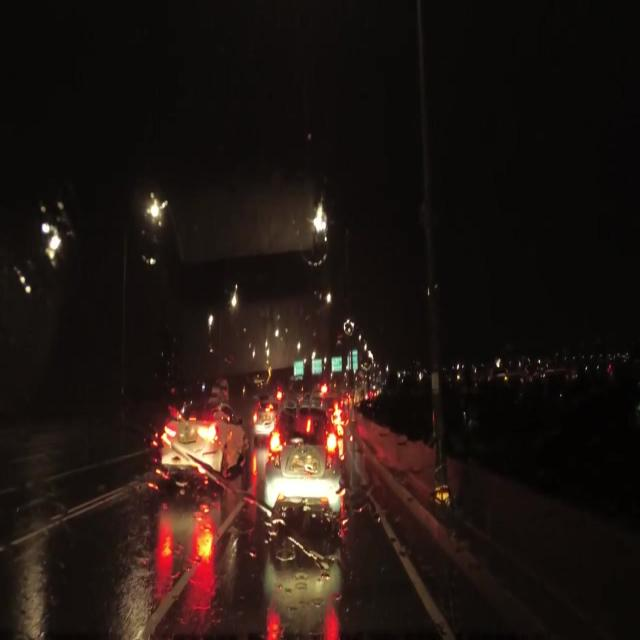Car: (268, 400, 342, 520), (158, 404, 247, 487), (251, 399, 276, 436)
